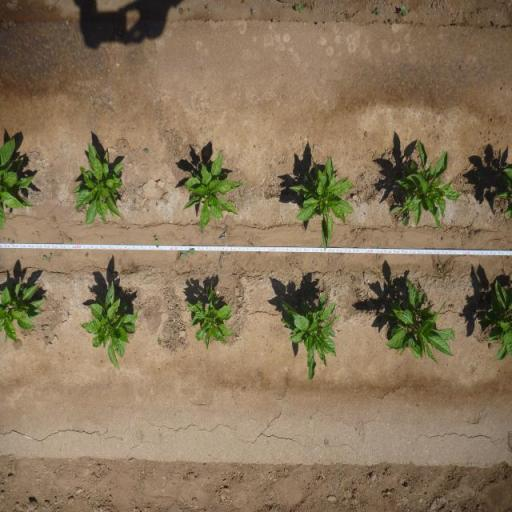plant: (380, 277, 460, 366), (273, 286, 343, 384), (286, 152, 356, 246), (80, 280, 142, 373), (406, 136, 464, 230), (179, 148, 241, 234), (70, 140, 127, 230), (184, 280, 236, 350), (0, 133, 36, 230), (476, 276, 512, 362), (0, 278, 46, 345), (493, 161, 512, 220)
weed: (180, 248, 194, 260), (398, 4, 410, 18), (294, 0, 304, 14), (371, 5, 383, 15), (42, 252, 52, 262), (153, 234, 159, 248), (344, 10, 352, 20), (493, 19, 500, 28), (157, 336, 163, 346), (178, 6, 184, 16), (68, 236, 74, 244), (250, 8, 256, 16), (204, 2, 210, 10), (143, 147, 149, 154), (84, 251, 90, 258), (186, 6, 192, 12), (36, 231, 41, 238)
